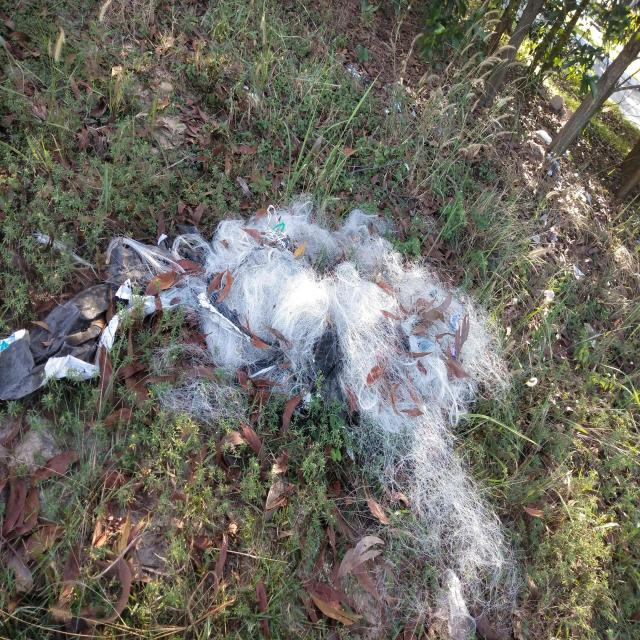litter: (2, 192, 545, 634)
